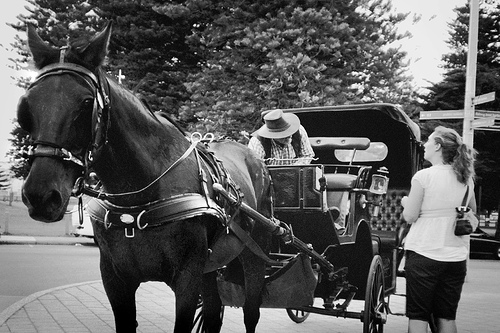horse: (16, 21, 279, 333)
